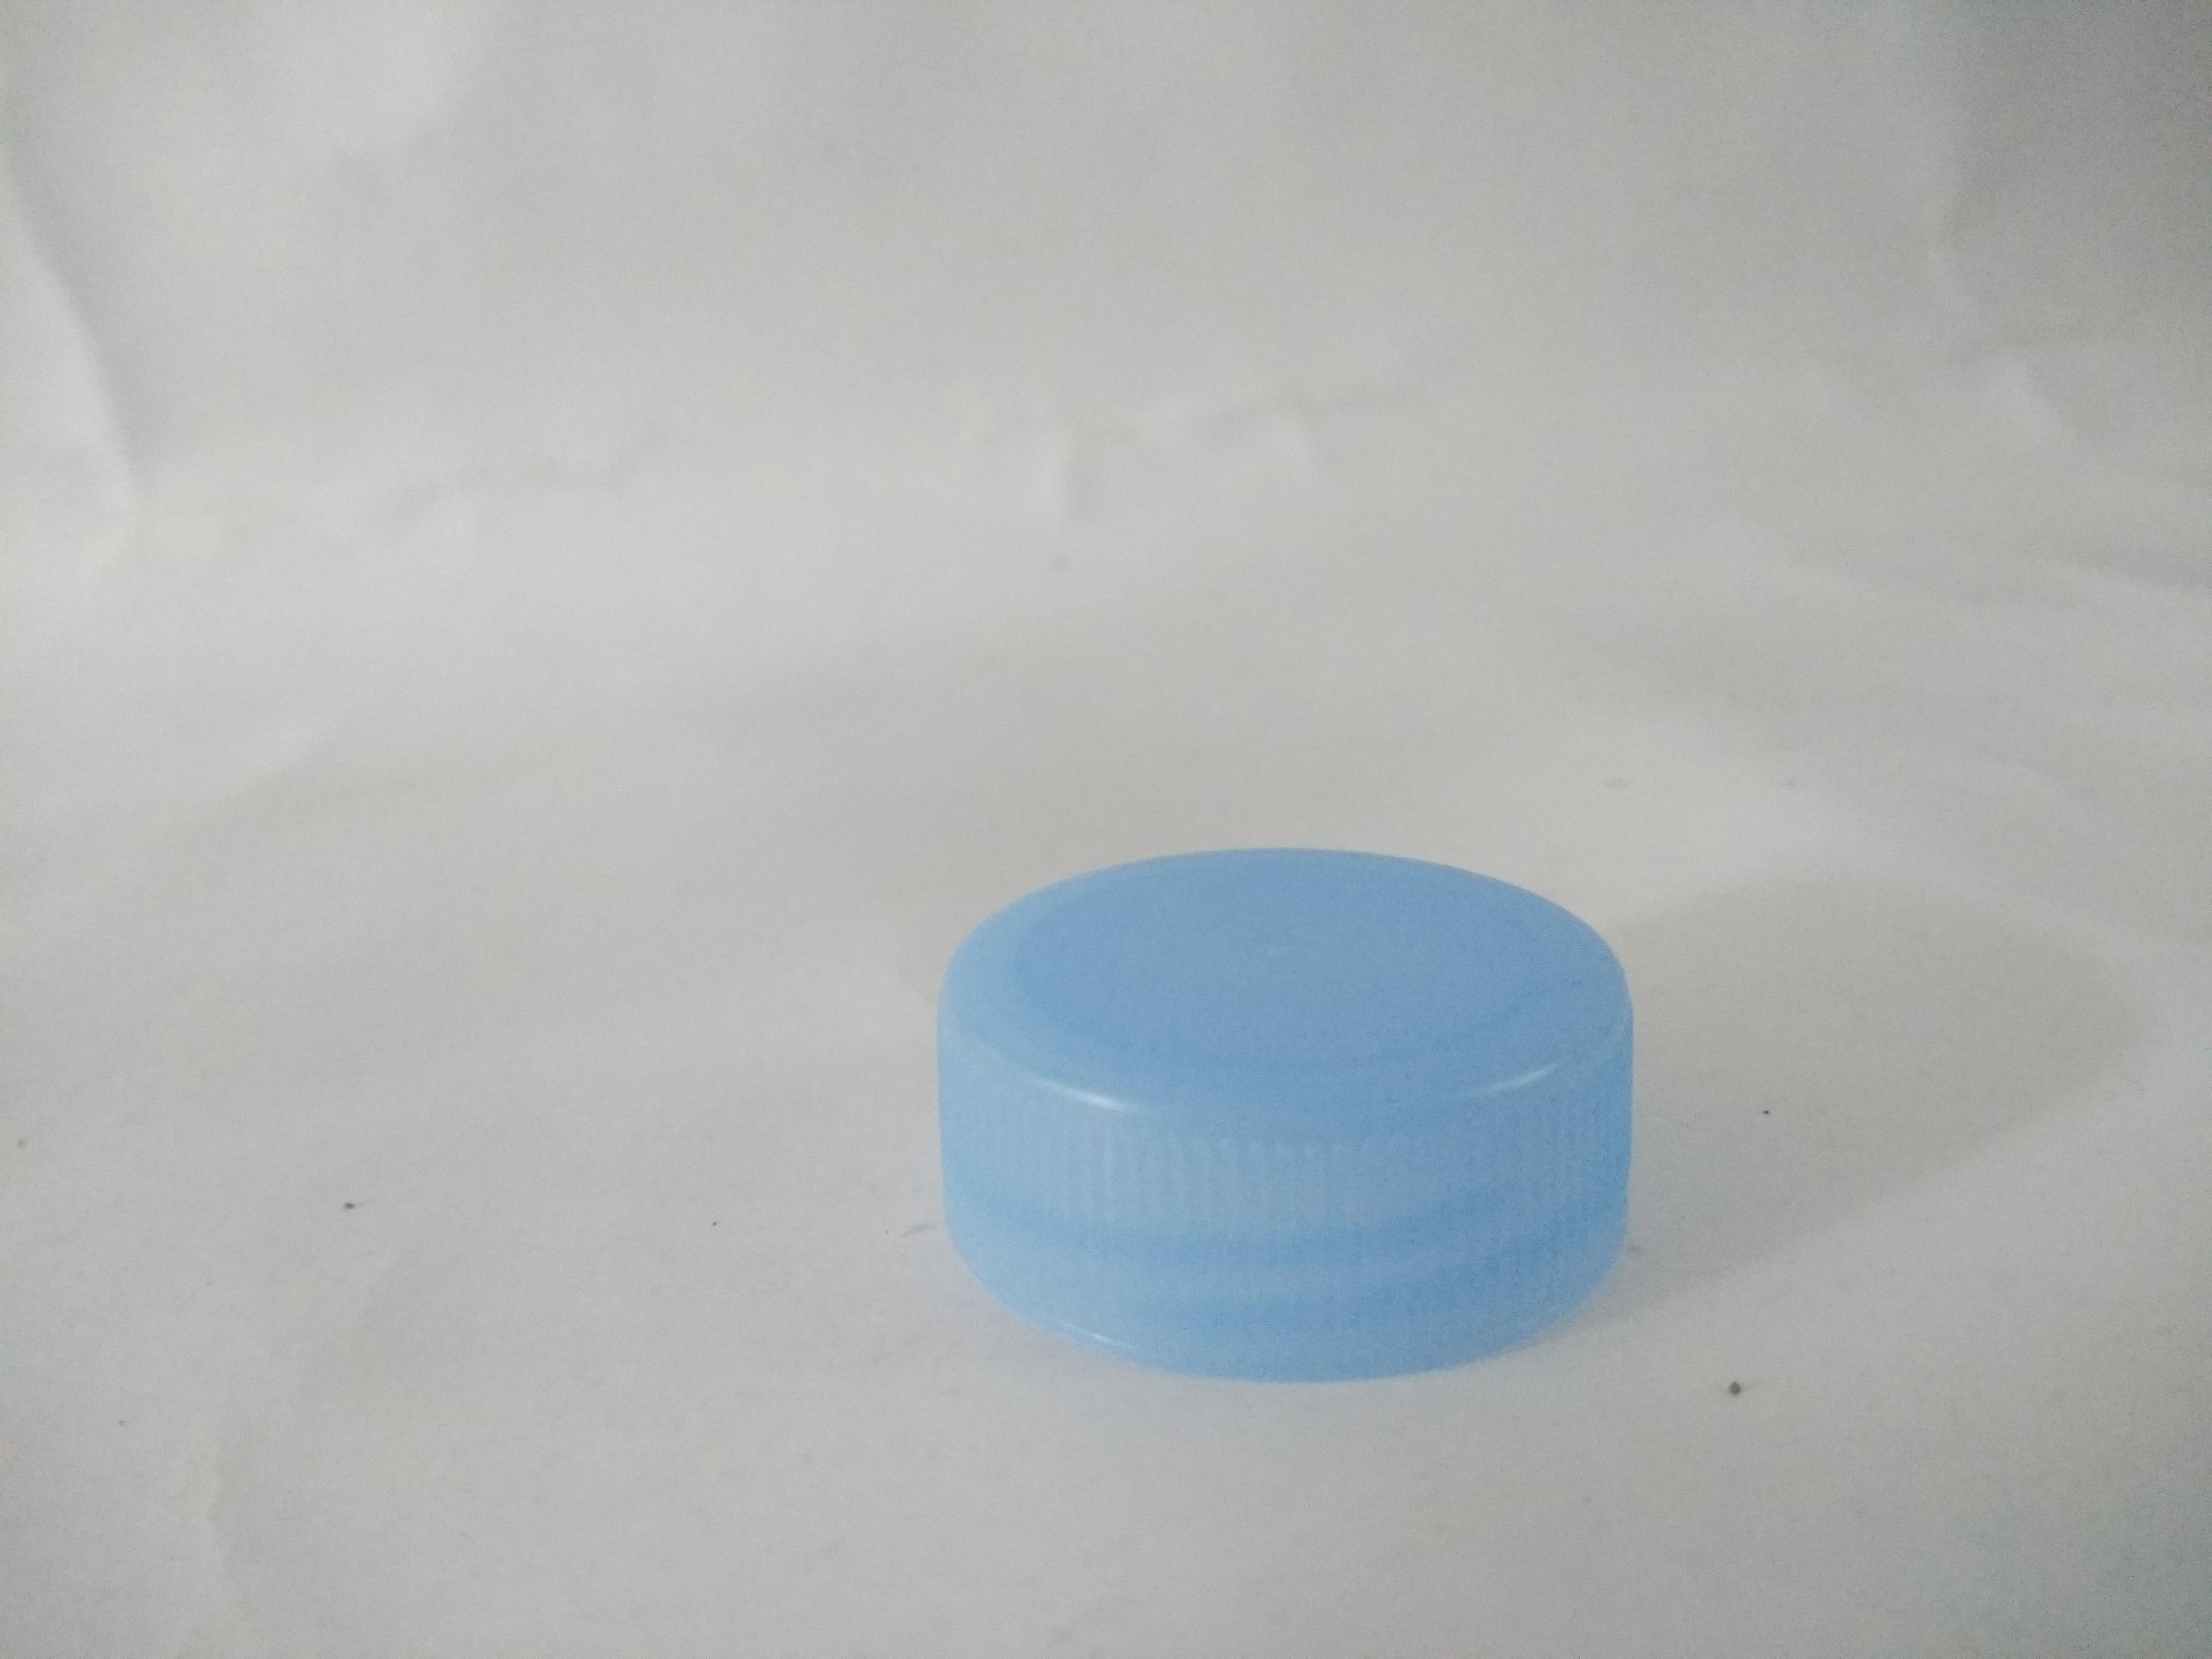HDPE: (629, 572, 1897, 1605)
